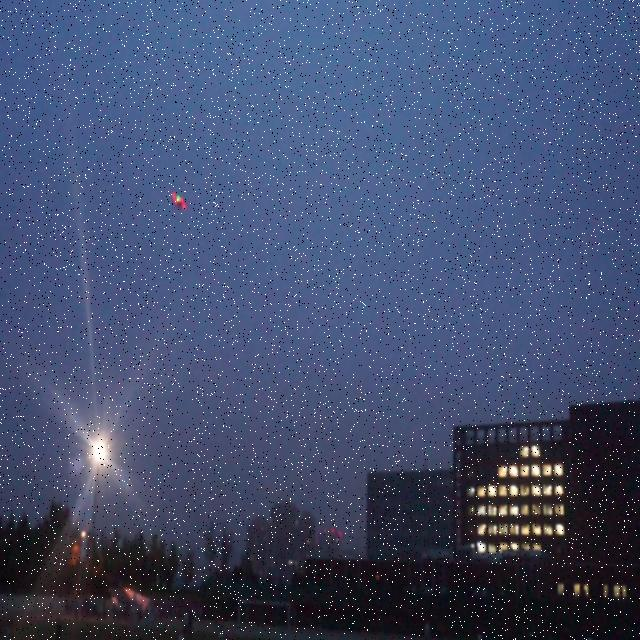UAV: (172, 191, 187, 211)
